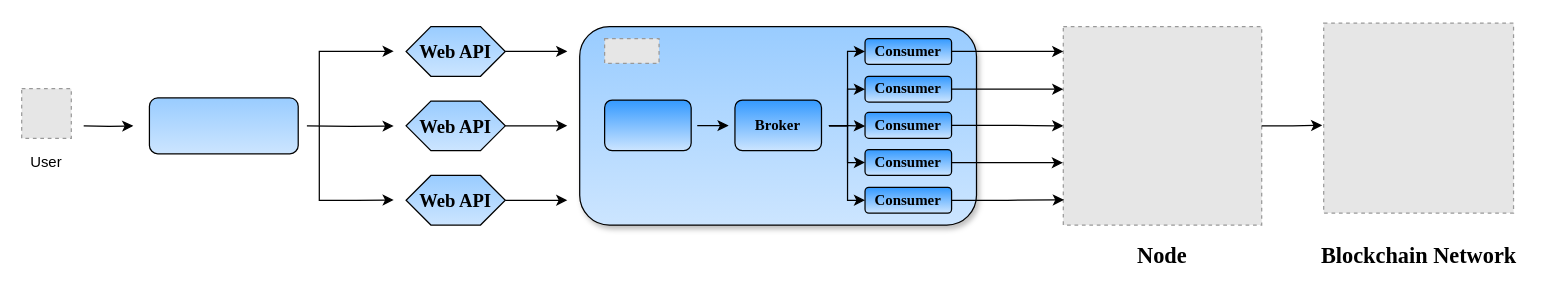
Image size: 1559x299. Some labels were removed from this diagram. Grey dashed boxes stand in for pictures. Each missing label, with the centre of its shape:
Producer: point (647, 125)
Traffic Dispatcher: point (223, 125)
